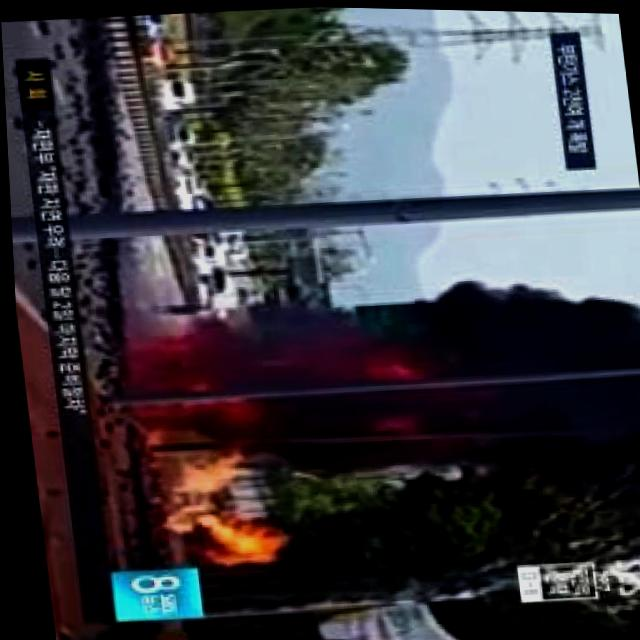Fire: (148, 450, 269, 577)
